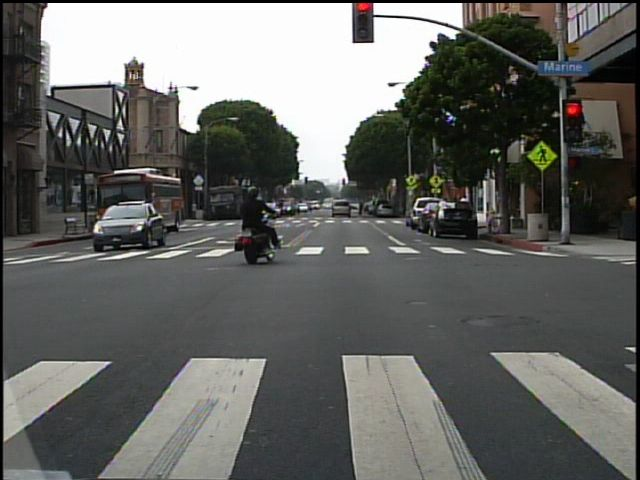car: (91, 209, 163, 250), (431, 198, 478, 239), (328, 197, 354, 218)
striscie pedonali: (8, 347, 640, 479), (6, 247, 241, 260), (280, 246, 515, 259), (276, 217, 407, 224)
